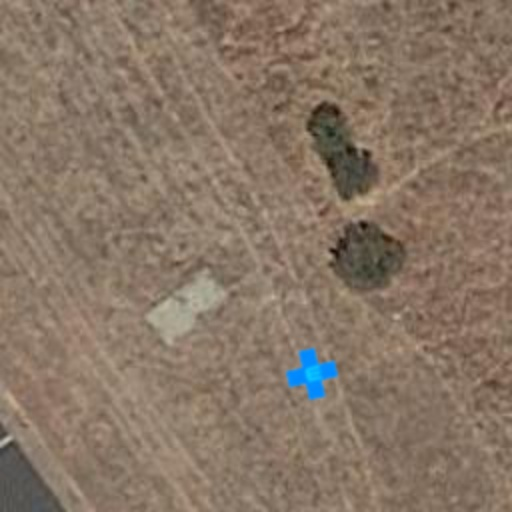cross: (280, 342, 344, 406)
